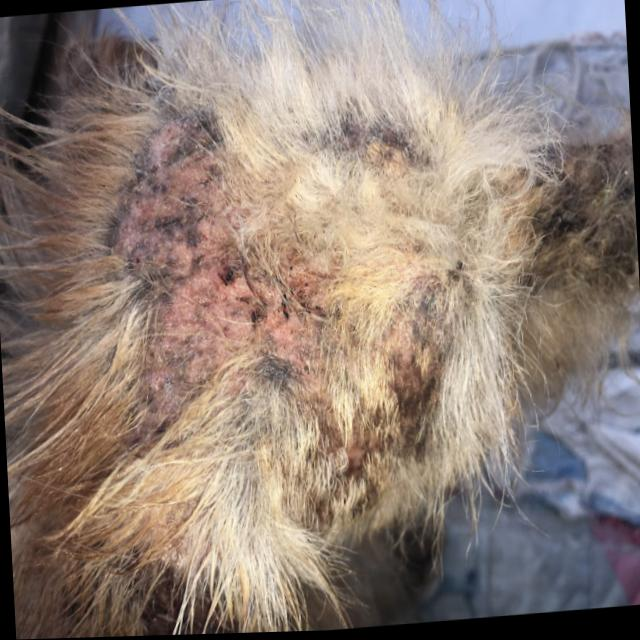demodicosis: (62, 80, 408, 501)
